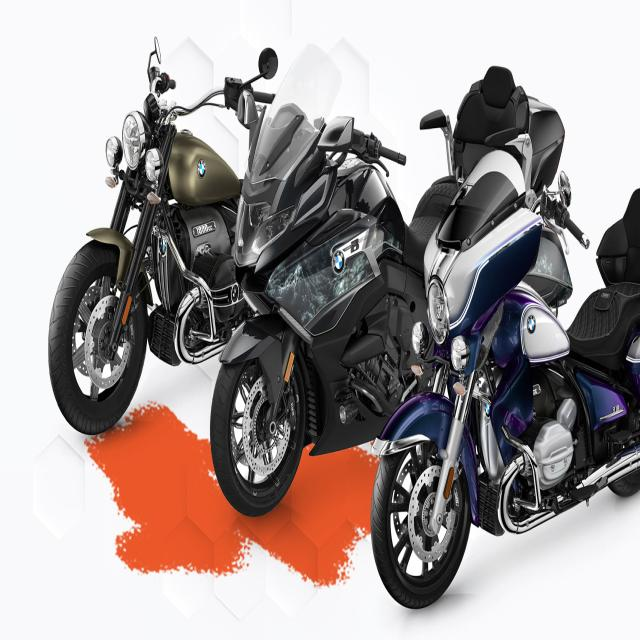Motorcycle: (371, 98, 640, 607), (211, 44, 451, 515), (48, 37, 248, 433)
